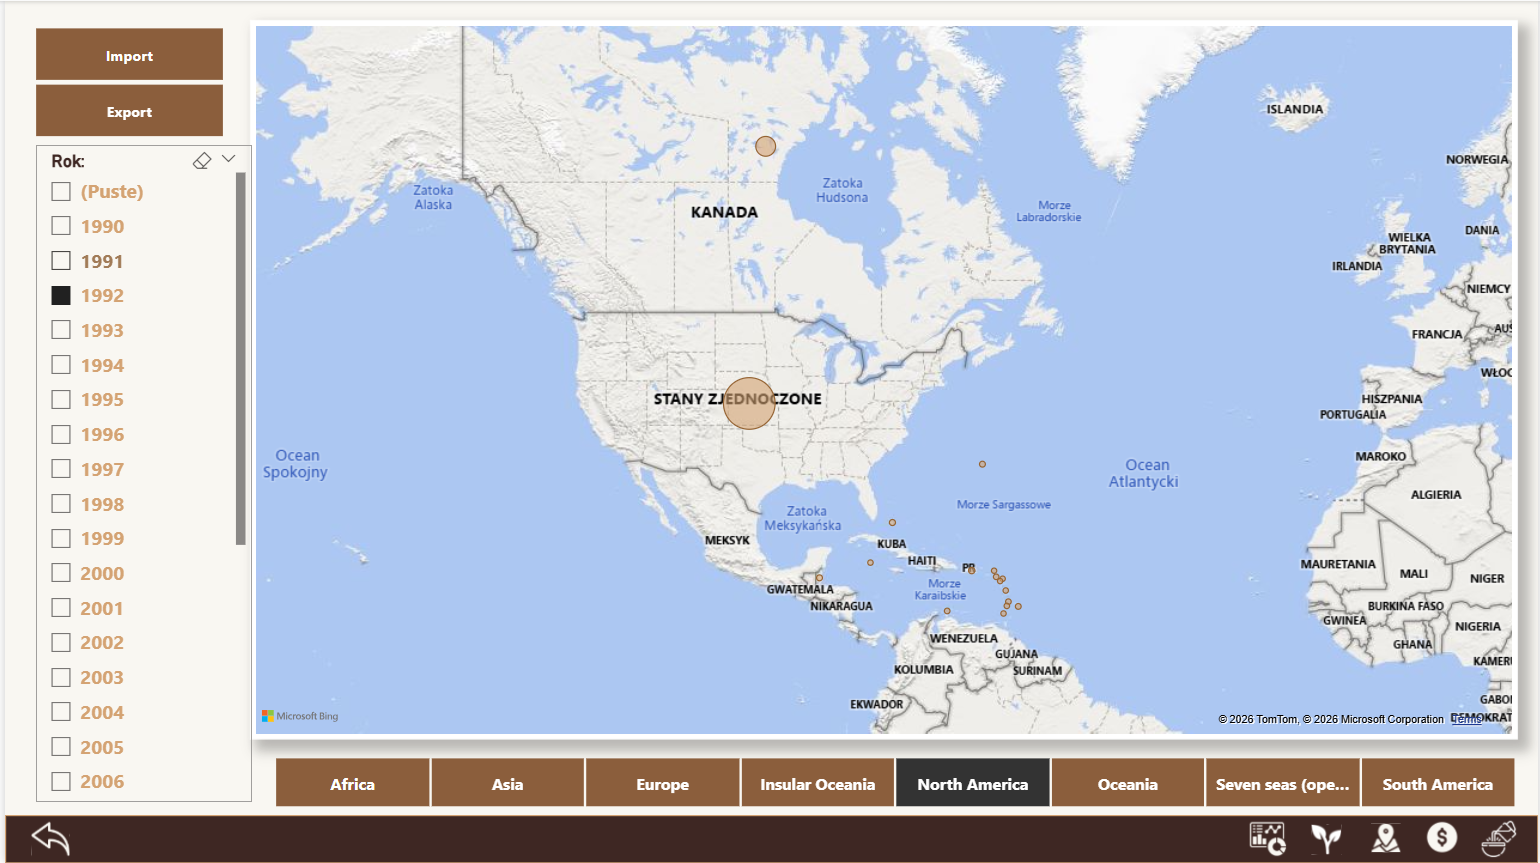

This screenshot's page, from the dashboard's own definition file:
{"tool":"powerbi","page":{"name":"Map","canvas":[1280,720],"ordinal":2},"visuals":[{"type":"shape","box":[0,679.5,1280.8,40.5],"z":0},{"type":"actionButton","box":[0,680,75,40],"z":1000},{"type":"map","fields":{"Category":["Dim_Countries.continent Hierarchia.continent","Dim_Countries.continent Hierarchia.country"],"Size":["Measures Table.Total Export Volume"]},"box":[205,16.2,1058.8,601.2],"z":2000},{"type":"slicer","fields":{"Values":["Selection.Selection"]},"box":[0,15.7,205.7,104.3],"z":3000},{"type":"slicer","fields":{"Values":["Dim_Countries.continent"]},"box":[205.7,625.7,1074.3,54.3],"z":4000},{"type":"slicer","fields":{"Values":["Dim_Date.year"]},"box":[26.2,120,180,548.8],"z":5000},{"type":"actionButton","box":[1029.9,679.7,49.3,40],"z":6000},{"type":"actionButton","box":[1128.5,679.1,49.3,39.3],"z":7000},{"type":"actionButton","box":[1079.2,679.7,49.3,40],"z":8000},{"type":"actionButton","box":[1223.2,679.7,49.3,40],"z":9000},{"type":"actionButton","box":[1177.9,681.1,45.3,35.3],"z":10000}]}

Visuals, with their boxes in screenshot pixels (x1, y1, x2, y2):
shape: {"left": 0, "top": 811, "right": 1513, "bottom": 858}
actionButton: {"left": 0, "top": 811, "right": 89, "bottom": 858}
map - Dim_Countries.continent Hierarchia.continent x Dim_Countries.continent Hierarchia.country: {"left": 242, "top": 27, "right": 1493, "bottom": 737}
slicer - Selection.Selection: {"left": 0, "top": 27, "right": 243, "bottom": 150}
slicer - Dim_Countries.continent: {"left": 243, "top": 747, "right": 1512, "bottom": 811}
slicer - Dim_Date.year: {"left": 31, "top": 150, "right": 244, "bottom": 798}
actionButton: {"left": 1216, "top": 811, "right": 1275, "bottom": 858}
actionButton: {"left": 1333, "top": 810, "right": 1391, "bottom": 856}
actionButton: {"left": 1275, "top": 811, "right": 1333, "bottom": 858}
actionButton: {"left": 1445, "top": 811, "right": 1503, "bottom": 858}
actionButton: {"left": 1391, "top": 812, "right": 1445, "bottom": 854}
